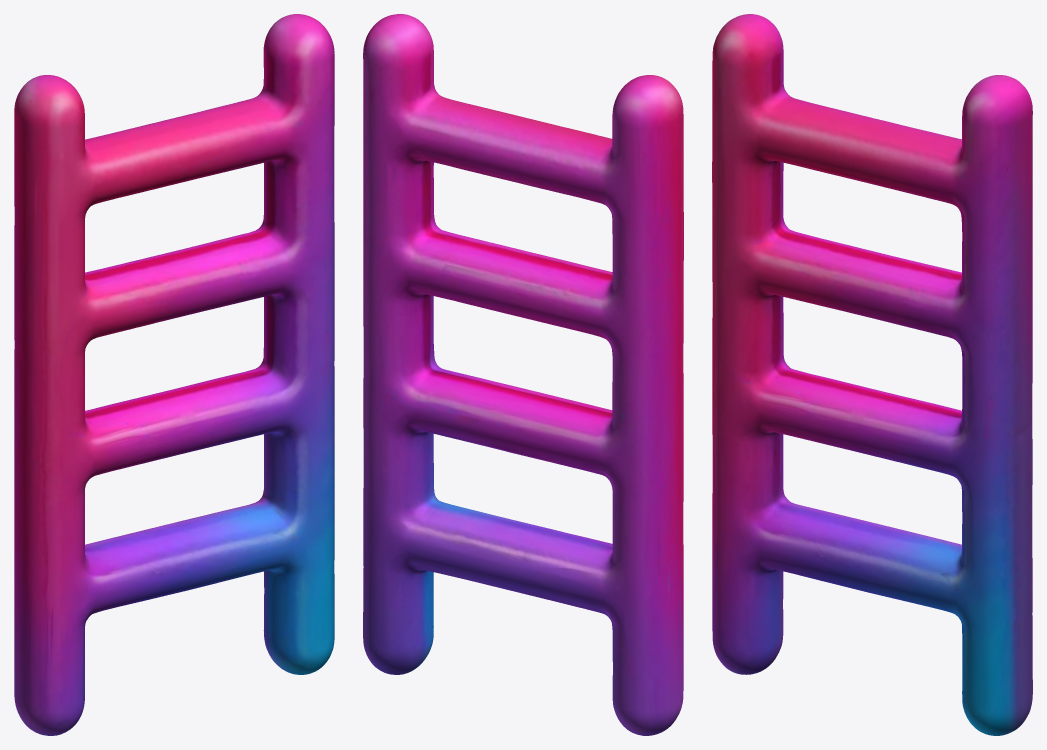
The model's file is lader__main__r2__p2.glb.
3 renders of one model, left to right at view 1: azimuth 30°, elevation 25°; view 2: azimuth 150°, elevation 25°; view 3: azimuth 330°, elevation 25°, orthographic.
Visible parts, largest first — view 1: model; view 2: model; view 3: model.
Boxes of the visible parts, x1=… form: model: x1=14, y1=14, x2=334, y2=735; model: x1=363, y1=14, x2=683, y2=735; model: x1=712, y1=14, x2=1032, y2=735.
Size of the model in its own units: 0.9127 by 1.85 by 0.1924.
1 material, 1 textured.
